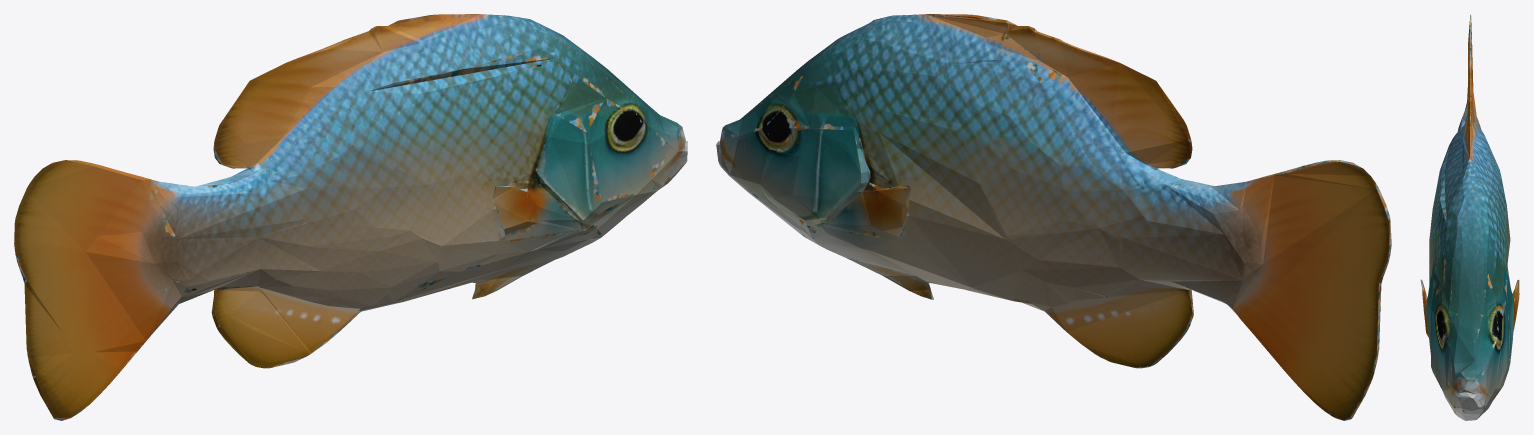
File: fish_0115_smpl23_resized.glb
3 views of the same model, side by side, from view 1: azimuth 30°, elevation 25°; view 2: azimuth 150°, elevation 25°; view 3: azimuth 270°, elevation 25° (orthographic). The views are drawn at different scales.
Parts seen in each view (by area): view 1: world; view 2: world; view 3: world.
Part boxes in pixels (box(x1,y1,x2,y2)): world: box(14, 14, 687, 420); world: box(716, 14, 1391, 420); world: box(1420, 14, 1519, 420).
Size of the model in its own units: 1.99 by 0.8996 by 0.2948.
1 material, 1 textured.
